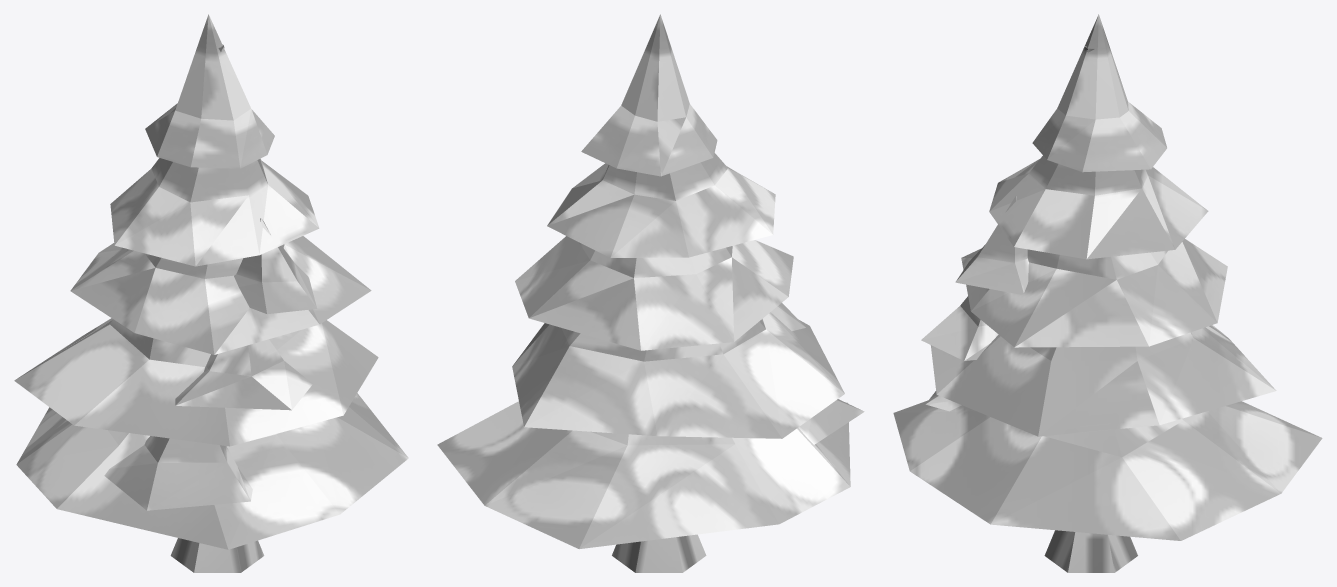
The model's file is tree_pine_2.obj.
The picture shows the model from 3 angles, left to right: view 1: azimuth 30°, elevation 25°; view 2: azimuth 150°, elevation 25°; view 3: azimuth 270°, elevation 25°; orthographic projection.
Parts seen in each view (by area): view 1: tree_pine_2; view 2: tree_pine_2; view 3: tree_pine_2.
Part boxes in pixels (x1=…): tree_pine_2: x1=14, y1=14, x2=408, y2=572; tree_pine_2: x1=437, y1=14, x2=864, y2=572; tree_pine_2: x1=893, y1=14, x2=1322, y2=572.
Bounding box in the file's own units: 0.7322 × 1.08 × 0.779.
